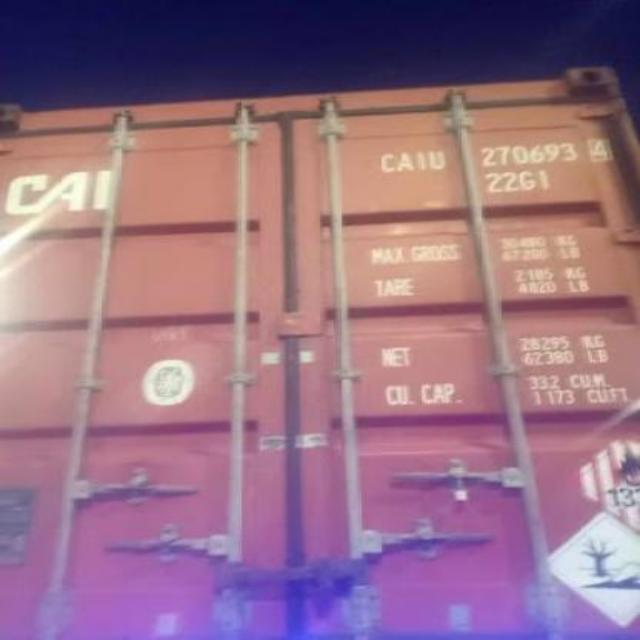0: (512, 140, 530, 168)
2: (476, 142, 496, 168)
3: (562, 134, 576, 164)
4: (586, 136, 612, 162)
6: (528, 142, 546, 168)
7: (494, 142, 512, 168)
9: (544, 140, 560, 167)
A: (394, 148, 414, 176)
C: (378, 142, 394, 174)
I: (412, 146, 428, 172)
U: (430, 141, 446, 173)
